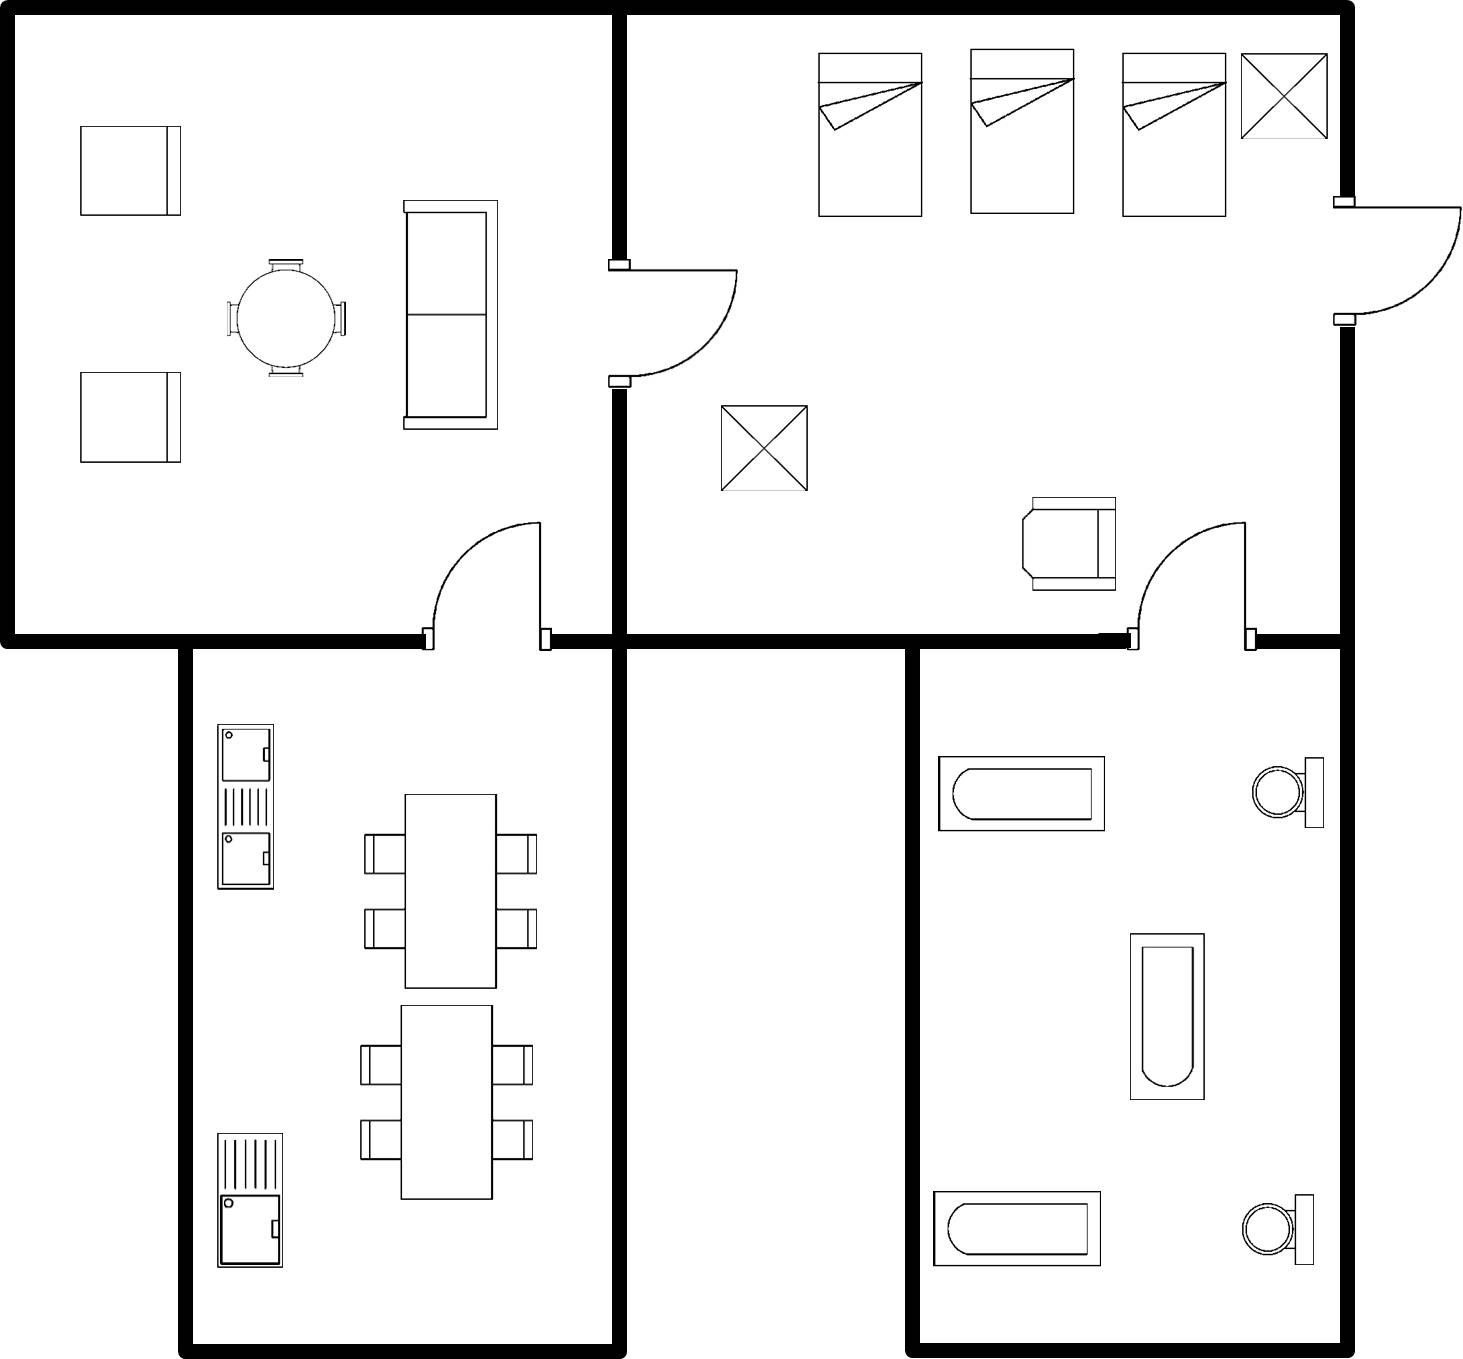armchair: (1013, 486, 1129, 603)
bed: (961, 39, 1085, 226), (1113, 44, 1236, 230), (810, 42, 928, 224)
coffee_table: (713, 396, 824, 503), (1237, 42, 1334, 160)
dining_table: (352, 779, 552, 998), (349, 1000, 549, 1212)
large_sink: (1240, 744, 1333, 838), (1232, 1184, 1324, 1279)
large_sofa: (393, 187, 508, 443)
round_table: (217, 250, 356, 383)
sink: (205, 1124, 294, 1278)
small_sofa: (68, 359, 193, 470), (68, 116, 189, 228)
tub: (924, 1178, 1117, 1278), (1114, 924, 1216, 1111), (930, 748, 1117, 843)
twin_sink: (209, 711, 285, 900)
